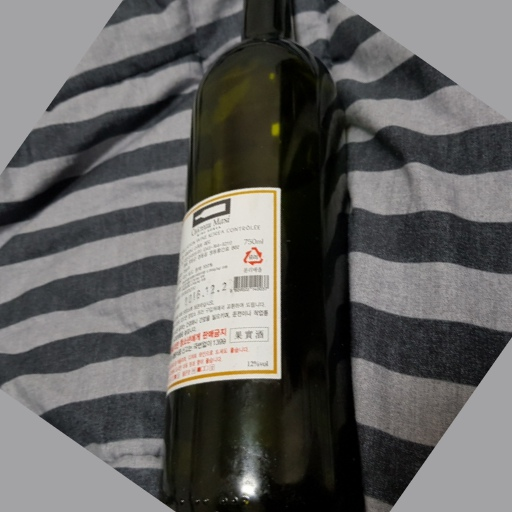Glass_2: (160, 1, 355, 512)
